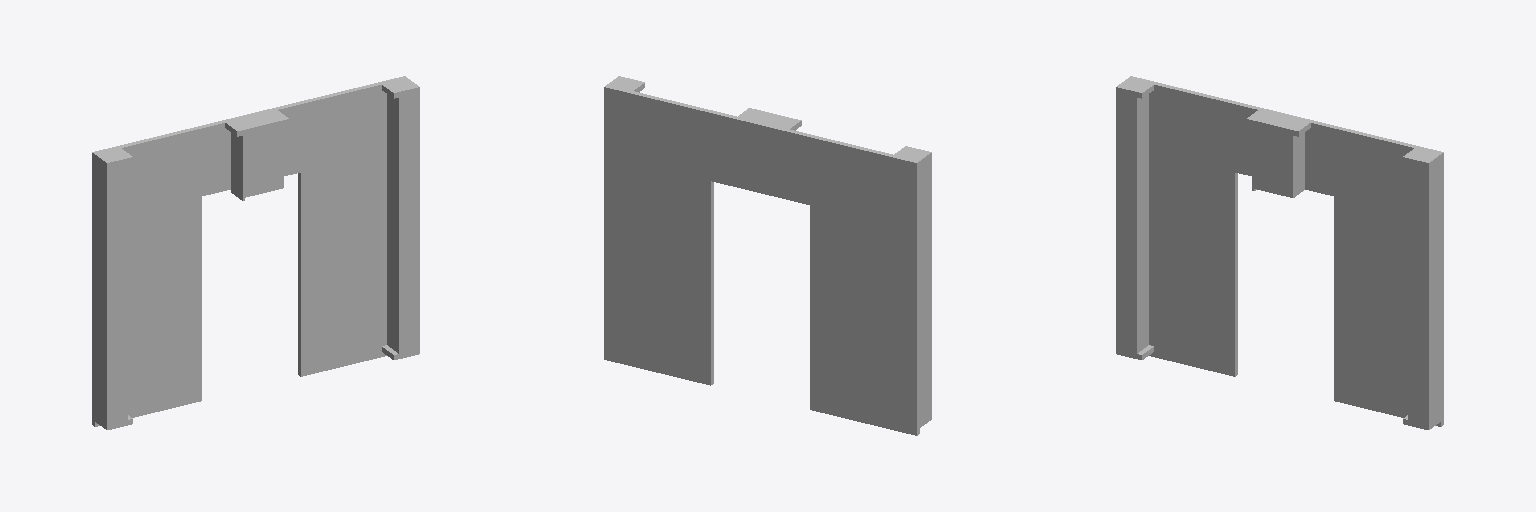
Rendered from ToiletEntrance.obj.
3 views of the same model, side by side, from view 1: azimuth 30°, elevation 25°; view 2: azimuth 150°, elevation 25°; view 3: azimuth 330°, elevation 25° (orthographic).
Parts seen in each view (by area): view 1: object 1; view 2: object 1; view 3: object 1.
Part boxes in pixels (bbox=[...]): object 1: bbox=[92, 76, 419, 429]; object 1: bbox=[604, 76, 931, 435]; object 1: bbox=[1116, 76, 1443, 429].
Bounding box in the file's own units: 12 × 10 × 1.